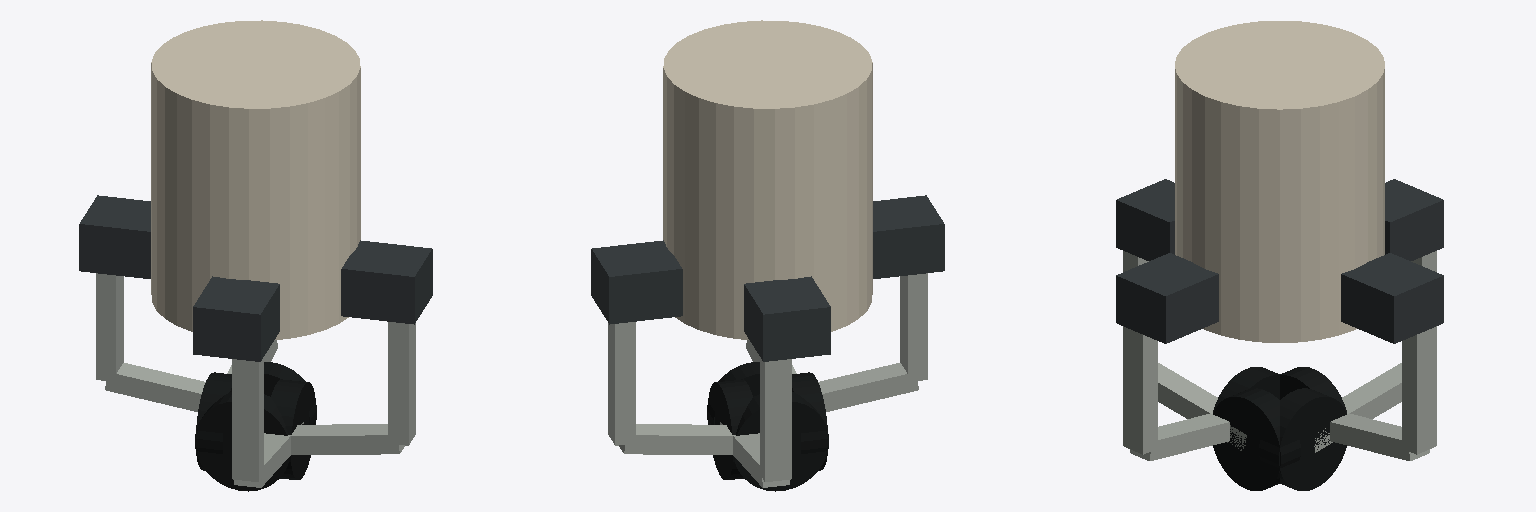
URDF robot description (mist_v2_engineering_candidate):
<?xml version='1.0' encoding='utf-8'?>
<robot name="mist_v2_engineering_candidate">
  <link name="base_link">
    <inertial>
      <origin xyz="0.003388389241 1.493361693e-06 0.03041384112" />
      <mass value="2.4492070836026665" />
      <inertia ixx="0.02125669905013628" iyy="0.019450610970687173" izz="0.017499715407569134" ixy="-3.087767463132525e-07" ixz="-0.0013028481915023627" iyz="2.742202012158825e-08" />
    </inertial>
    <visual>
      <origin xyz="0 0 0.075" rpy="0 0 0" />
      <geometry>
        <cylinder radius="0.09" length="0.22" />
      </geometry>
      <material name="base_link_material">
        <color rgba="0.83 0.8 0.73 1" />
      </material>
    </visual>
    <collision>
      <origin xyz="0 0 0.075" rpy="0 0 0" />
      <geometry>
        <cylinder radius="0.09" length="0.22" />
      </geometry>
    </collision>
  </link>
  <link name="FL_yaw">
    <inertial>
      <origin xyz="0.05037779371 -0.02909465782 0.003047798041" />
      <mass value="0.18856835128024615" />
      <inertia ixx="0.00017023544498280188" iyy="0.0002291867997440033" izz="0.00032701715050603735" ixy="0.00012541178122409732" ixz="2.3160330010817645e-05" iyz="-2.5777155508407435e-05" />
    </inertial>
    <visual>
      <origin xyz="0.0175 0.015 0" rpy="0 0 0" />
      <geometry>
        <box size="0.065 0.06 0.045" />
      </geometry>
      <material name="FL_yaw_material">
        <color rgba="0.25 0.27 0.28 1" />
      </material>
    </visual>
    <collision>
      <origin xyz="0.0175 0.015 0" rpy="0 0 0" />
      <geometry>
        <box size="0.065 0.06 0.045" />
      </geometry>
    </collision>
  </link>
  <joint name="FL_q1_yaw" type="revolute">
    <parent link="base_link" />
    <child link="FL_yaw" />
    <origin xyz="0.07283199846 0.07283199846 0" rpy="0 0 0.7853981634" />
    <axis xyz="0 0 1" />
    <limit lower="-1.7453292519943295" upper="1.7453292519943295" effort="20" velocity="20" />
    <dynamics damping="0" friction="0" />
  </joint>
  <link name="FL_femur">
    <inertial>
      <origin xyz="3.469446952e-17 0.02755742571 -0.04168769318" />
      <mass value="0.569793358910382" />
      <inertia ixx="0.0017104277044611873" iyy="0.001202420624449608" izz="0.0007070387454594916" ixy="1.3534319031886612e-20" ixz="2.309500200591432e-19" iyz="-1.3585098421913724e-05" />
    </inertial>
    <visual>
      <origin xyz="0 0 -0.06975" rpy="0 0 0" />
      <geometry>
        <box size="0.018 0.024 0.1395" />
      </geometry>
      <material name="FL_femur_material">
        <color rgba="0.68 0.7 0.67 1" />
      </material>
    </visual>
    <collision>
      <origin xyz="0 0 -0.06975" rpy="0 0 0" />
      <geometry>
        <box size="0.018 0.024 0.1395" />
      </geometry>
    </collision>
  </link>
  <joint name="FL_q2_hip" type="revolute">
    <parent link="FL_yaw" />
    <child link="FL_femur" />
    <origin xyz="0.035 0.03 0" rpy="0 0 0" />
    <axis xyz="0 -1 0" />
    <limit lower="-0.6981317007977318" upper="2.181661564992912" effort="20" velocity="20" />
    <dynamics damping="0" friction="0" />
  </joint>
  <link name="FL_tibia">
    <inertial>
      <origin xyz="5.11871788e-10 0.01826851161 -0.06290189864" />
      <mass value="0.4960406883090802" />
      <inertia ixx="0.0012527973451017522" iyy="0.001093121767756599" izz="0.0002716584378050016" ixy="-1.961471203965535e-12" ixz="-4.709087884667719e-12" iyz="-5.045115996889297e-06" />
    </inertial>
    <visual>
      <origin xyz="0 0 -0.07" rpy="0 0 0" />
      <geometry>
        <box size="0.018 0.024 0.14" />
      </geometry>
      <material name="FL_tibia_material">
        <color rgba="0.68 0.7 0.67 1" />
      </material>
    </visual>
    <collision>
      <origin xyz="0 0 -0.07" rpy="0 0 0" />
      <geometry>
        <box size="0.018 0.024 0.14" />
      </geometry>
    </collision>
  </link>
  <joint name="FL_q3_knee" type="revolute">
    <parent link="FL_femur" />
    <child link="FL_tibia" />
    <origin xyz="0 0 -0.1395" rpy="0 0 0" />
    <axis xyz="0 -1 0" />
    <limit lower="-2.6179938779914944" upper="-0.2617993877991494" effort="20" velocity="20" />
    <dynamics damping="0" friction="0" />
  </joint>
  <link name="FL_wheel">
    <inertial>
      <origin xyz="-3.752263715e-10 0.008234554553 2.471307574e-09" />
      <mass value="0.10731689053973788" />
      <inertia ixx="7.586045237460331e-05" iyy="9.10728819164123e-05" izz="7.586044613961116e-05" ixy="1.0194783467604003e-12" ixz="1.0128357823010377e-12" iyz="-6.710322416391488e-12" />
    </inertial>
    <visual>
      <origin xyz="0 0 0" rpy="1.570796327 0 0" />
      <geometry>
        <cylinder radius="0.0425" length="0.024" />
      </geometry>
      <material name="FL_wheel_material">
        <color rgba="0.12 0.13 0.13 1" />
      </material>
    </visual>
    <collision>
      <origin xyz="0 0 0" rpy="1.570796327 0 0" />
      <geometry>
        <cylinder radius="0.0425" length="0.024" />
      </geometry>
    </collision>
  </link>
  <joint name="FL_wheel_drive" type="continuous">
    <parent link="FL_tibia" />
    <child link="FL_wheel" />
    <origin xyz="0 0 -0.14" rpy="0 0 0" />
    <axis xyz="0 -1 0" />
    <dynamics damping="0" friction="0" />
  </joint>
  <link name="FR_yaw">
    <inertial>
      <origin xyz="0.05037779371 0.02909465782 0.003047798041" />
      <mass value="0.18856835128024615" />
      <inertia ixx="0.00017023544498280188" iyy="0.0002291867997440033" izz="0.00032701715050603735" ixy="-0.00012541178122409732" ixz="2.3160330010817645e-05" iyz="2.5777155508407435e-05" />
    </inertial>
    <visual>
      <origin xyz="0.0175 -0.015 0" rpy="0 0 0" />
      <geometry>
        <box size="0.065 0.06 0.045" />
      </geometry>
      <material name="FR_yaw_material">
        <color rgba="0.25 0.27 0.28 1" />
      </material>
    </visual>
    <collision>
      <origin xyz="0.0175 -0.015 0" rpy="0 0 0" />
      <geometry>
        <box size="0.065 0.06 0.045" />
      </geometry>
    </collision>
  </link>
  <joint name="FR_q1_yaw" type="revolute">
    <parent link="base_link" />
    <child link="FR_yaw" />
    <origin xyz="0.07283199846 -0.07283199846 0" rpy="0 0 -0.7853981634" />
    <axis xyz="0 0 1" />
    <limit lower="-1.7453292519943295" upper="1.7453292519943295" effort="20" velocity="20" />
    <dynamics damping="0" friction="0" />
  </joint>
  <link name="FR_femur">
    <inertial>
      <origin xyz="3.469446952e-17 -0.02755742571 -0.04168769318" />
      <mass value="0.569793358910382" />
      <inertia ixx="0.0017104277044611873" iyy="0.001202420624449608" izz="0.0007070387454594916" ixy="-1.3534319031886612e-20" ixz="2.309500200591432e-19" iyz="1.3585098421913724e-05" />
    </inertial>
    <visual>
      <origin xyz="0 0 -0.06975" rpy="0 0 0" />
      <geometry>
        <box size="0.018 0.024 0.1395" />
      </geometry>
      <material name="FR_femur_material">
        <color rgba="0.68 0.7 0.67 1" />
      </material>
    </visual>
    <collision>
      <origin xyz="0 0 -0.06975" rpy="0 0 0" />
      <geometry>
        <box size="0.018 0.024 0.1395" />
      </geometry>
    </collision>
  </link>
  <joint name="FR_q2_hip" type="revolute">
    <parent link="FR_yaw" />
    <child link="FR_femur" />
    <origin xyz="0.035 -0.03 0" rpy="0 0 0" />
    <axis xyz="0 -1 0" />
    <limit lower="-0.6981317007977318" upper="2.181661564992912" effort="20" velocity="20" />
    <dynamics damping="0" friction="0" />
  </joint>
  <link name="FR_tibia">
    <inertial>
      <origin xyz="5.11871788e-10 -0.01826851161 -0.06290189864" />
      <mass value="0.4960406883090802" />
      <inertia ixx="0.0012527973451017522" iyy="0.001093121767756599" izz="0.0002716584378050016" ixy="1.961471203965535e-12" ixz="-4.709087884667719e-12" iyz="5.045115996889297e-06" />
    </inertial>
    <visual>
      <origin xyz="0 0 -0.07" rpy="0 0 0" />
      <geometry>
        <box size="0.018 0.024 0.14" />
      </geometry>
      <material name="FR_tibia_material">
        <color rgba="0.68 0.7 0.67 1" />
      </material>
    </visual>
    <collision>
      <origin xyz="0 0 -0.07" rpy="0 0 0" />
      <geometry>
        <box size="0.018 0.024 0.14" />
      </geometry>
    </collision>
  </link>
  <joint name="FR_q3_knee" type="revolute">
    <parent link="FR_femur" />
    <child link="FR_tibia" />
    <origin xyz="0 0 -0.1395" rpy="0 0 0" />
    <axis xyz="0 -1 0" />
    <limit lower="-2.6179938779914944" upper="-0.2617993877991494" effort="20" velocity="20" />
    <dynamics damping="0" friction="0" />
  </joint>
  <link name="FR_wheel">
    <inertial>
      <origin xyz="-3.752263715e-10 -0.008234554553 2.471307574e-09" />
      <mass value="0.10731689053973788" />
      <inertia ixx="7.586045237460331e-05" iyy="9.10728819164123e-05" izz="7.586044613961116e-05" ixy="-1.0194783467604003e-12" ixz="1.0128357823010377e-12" iyz="6.710322416391488e-12" />
    </inertial>
    <visual>
      <origin xyz="0 0 0" rpy="1.570796327 0 0" />
      <geometry>
        <cylinder radius="0.0425" length="0.024" />
      </geometry>
      <material name="FR_wheel_material">
        <color rgba="0.12 0.13 0.13 1" />
      </material>
    </visual>
    <collision>
      <origin xyz="0 0 0" rpy="1.570796327 0 0" />
      <geometry>
        <cylinder radius="0.0425" length="0.024" />
      </geometry>
    </collision>
  </link>
  <joint name="FR_wheel_drive" type="continuous">
    <parent link="FR_tibia" />
    <child link="FR_wheel" />
    <origin xyz="0 0 -0.14" rpy="0 0 0" />
    <axis xyz="0 -1 0" />
    <dynamics damping="0" friction="0" />
  </joint>
  <link name="RL_yaw">
    <inertial>
      <origin xyz="0.05037779371 0.02909465782 0.003047798041" />
      <mass value="0.18856835128024615" />
      <inertia ixx="0.00017023544498280188" iyy="0.0002291867997440033" izz="0.00032701715050603735" ixy="-0.00012541178122409732" ixz="2.3160330010817645e-05" iyz="2.5777155508407435e-05" />
    </inertial>
    <visual>
      <origin xyz="0.0175 -0.015 0" rpy="0 0 0" />
      <geometry>
        <box size="0.065 0.06 0.045" />
      </geometry>
      <material name="RL_yaw_material">
        <color rgba="0.25 0.27 0.28 1" />
      </material>
    </visual>
    <collision>
      <origin xyz="0.0175 -0.015 0" rpy="0 0 0" />
      <geometry>
        <box size="0.065 0.06 0.045" />
      </geometry>
    </collision>
  </link>
  <joint name="RL_q1_yaw" type="revolute">
    <parent link="base_link" />
    <child link="RL_yaw" />
    <origin xyz="-0.07283199846 0.07283199846 0" rpy="0 0 2.35619449" />
    <axis xyz="0 0 1" />
    <limit lower="-1.7453292519943295" upper="1.7453292519943295" effort="20" velocity="20" />
    <dynamics damping="0" friction="0" />
  </joint>
  <link name="RL_femur">
    <inertial>
      <origin xyz="3.469446952e-17 -0.02755742571 -0.04168769318" />
      <mass value="0.569793358910382" />
      <inertia ixx="0.0017104277044611873" iyy="0.001202420624449608" izz="0.0007070387454594916" ixy="-1.3534319031886612e-20" ixz="2.309500200591432e-19" iyz="1.3585098421913724e-05" />
    </inertial>
    <visual>
      <origin xyz="0 0 -0.06975" rpy="0 0 0" />
      <geometry>
        <box size="0.018 0.024 0.1395" />
      </geometry>
      <material name="RL_femur_material">
        <color rgba="0.68 0.7 0.67 1" />
      </material>
    </visual>
    <collision>
      <origin xyz="0 0 -0.06975" rpy="0 0 0" />
      <geometry>
        <box size="0.018 0.024 0.1395" />
      </geometry>
    </collision>
  </link>
  <joint name="RL_q2_hip" type="revolute">
    <parent link="RL_yaw" />
    <child link="RL_femur" />
    <origin xyz="0.035 -0.03 0" rpy="0 0 0" />
    <axis xyz="0 -1 0" />
    <limit lower="-0.6981317007977318" upper="2.181661564992912" effort="20" velocity="20" />
    <dynamics damping="0" friction="0" />
  </joint>
  <link name="RL_tibia">
    <inertial>
      <origin xyz="5.11871788e-10 -0.01826851161 -0.06290189864" />
      <mass value="0.4960406883090802" />
      <inertia ixx="0.0012527973451017522" iyy="0.001093121767756599" izz="0.0002716584378050016" ixy="1.961471203965535e-12" ixz="-4.709087884667719e-12" iyz="5.045115996889297e-06" />
    </inertial>
    <visual>
      <origin xyz="0 0 -0.07" rpy="0 0 0" />
      <geometry>
        <box size="0.018 0.024 0.14" />
      </geometry>
      <material name="RL_tibia_material">
        <color rgba="0.68 0.7 0.67 1" />
      </material>
    </visual>
    <collision>
      <origin xyz="0 0 -0.07" rpy="0 0 0" />
      <geometry>
        <box size="0.018 0.024 0.14" />
      </geometry>
    </collision>
  </link>
  <joint name="RL_q3_knee" type="revolute">
    <parent link="RL_femur" />
    <child link="RL_tibia" />
    <origin xyz="0 0 -0.1395" rpy="0 0 0" />
    <axis xyz="0 -1 0" />
    <limit lower="-2.6179938779914944" upper="-0.2617993877991494" effort="20" velocity="20" />
    <dynamics damping="0" friction="0" />
  </joint>
  <link name="RL_wheel">
    <inertial>
      <origin xyz="-3.752263715e-10 -0.008234554553 2.471307574e-09" />
      <mass value="0.10731689053973788" />
      <inertia ixx="7.586045237460331e-05" iyy="9.10728819164123e-05" izz="7.586044613961116e-05" ixy="-1.0194783467604003e-12" ixz="1.0128357823010377e-12" iyz="6.710322416391488e-12" />
    </inertial>
    <visual>
      <origin xyz="0 0 0" rpy="1.570796327 0 0" />
      <geometry>
        <cylinder radius="0.0425" length="0.024" />
      </geometry>
      <material name="RL_wheel_material">
        <color rgba="0.12 0.13 0.13 1" />
      </material>
    </visual>
    <collision>
      <origin xyz="0 0 0" rpy="1.570796327 0 0" />
      <geometry>
        <cylinder radius="0.0425" length="0.024" />
      </geometry>
    </collision>
  </link>
  <joint name="RL_wheel_drive" type="continuous">
    <parent link="RL_tibia" />
    <child link="RL_wheel" />
    <origin xyz="0 0 -0.14" rpy="0 0 0" />
    <axis xyz="0 -1 0" />
    <dynamics damping="0" friction="0" />
  </joint>
  <link name="RR_yaw">
    <inertial>
      <origin xyz="0.05037779371 -0.02909465782 0.003047798041" />
      <mass value="0.18856835128024615" />
      <inertia ixx="0.00017023544498280188" iyy="0.0002291867997440033" izz="0.00032701715050603735" ixy="0.00012541178122409732" ixz="2.3160330010817645e-05" iyz="-2.5777155508407435e-05" />
    </inertial>
    <visual>
      <origin xyz="0.0175 0.015 0" rpy="0 0 0" />
      <geometry>
        <box size="0.065 0.06 0.045" />
      </geometry>
      <material name="RR_yaw_material">
        <color rgba="0.25 0.27 0.28 1" />
      </material>
    </visual>
    <collision>
      <origin xyz="0.0175 0.015 0" rpy="0 0 0" />
      <geometry>
        <box size="0.065 0.06 0.045" />
      </geometry>
    </collision>
  </link>
  <joint name="RR_q1_yaw" type="revolute">
    <parent link="base_link" />
    <child link="RR_yaw" />
    <origin xyz="-0.07283199846 -0.07283199846 0" rpy="0 0 -2.35619449" />
    <axis xyz="0 0 1" />
    <limit lower="-1.7453292519943295" upper="1.7453292519943295" effort="20" velocity="20" />
    <dynamics damping="0" friction="0" />
  </joint>
  <link name="RR_femur">
    <inertial>
      <origin xyz="3.469446952e-17 0.02755742571 -0.04168769318" />
      <mass value="0.569793358910382" />
      <inertia ixx="0.0017104277044611873" iyy="0.001202420624449608" izz="0.0007070387454594916" ixy="1.3534319031886612e-20" ixz="2.309500200591432e-19" iyz="-1.3585098421913724e-05" />
    </inertial>
    <visual>
      <origin xyz="0 0 -0.06975" rpy="0 0 0" />
      <geometry>
        <box size="0.018 0.024 0.1395" />
      </geometry>
      <material name="RR_femur_material">
        <color rgba="0.68 0.7 0.67 1" />
      </material>
    </visual>
    <collision>
      <origin xyz="0 0 -0.06975" rpy="0 0 0" />
      <geometry>
        <box size="0.018 0.024 0.1395" />
      </geometry>
    </collision>
  </link>
  <joint name="RR_q2_hip" type="revolute">
    <parent link="RR_yaw" />
    <child link="RR_femur" />
    <origin xyz="0.035 0.03 0" rpy="0 0 0" />
    <axis xyz="0 -1 0" />
    <limit lower="-0.6981317007977318" upper="2.181661564992912" effort="20" velocity="20" />
    <dynamics damping="0" friction="0" />
  </joint>
  <link name="RR_tibia">
    <inertial>
      <origin xyz="5.11871788e-10 0.01826851161 -0.06290189864" />
      <mass value="0.4960406883090802" />
      <inertia ixx="0.0012527973451017522" iyy="0.001093121767756599" izz="0.0002716584378050016" ixy="-1.961471203965535e-12" ixz="-4.709087884667719e-12" iyz="-5.045115996889297e-06" />
    </inertial>
    <visual>
      <origin xyz="0 0 -0.07" rpy="0 0 0" />
      <geometry>
        <box size="0.018 0.024 0.14" />
      </geometry>
      <material name="RR_tibia_material">
        <color rgba="0.68 0.7 0.67 1" />
      </material>
    </visual>
    <collision>
      <origin xyz="0 0 -0.07" rpy="0 0 0" />
      <geometry>
        <box size="0.018 0.024 0.14" />
      </geometry>
    </collision>
  </link>
  <joint name="RR_q3_knee" type="revolute">
    <parent link="RR_femur" />
    <child link="RR_tibia" />
    <origin xyz="0 0 -0.1395" rpy="0 0 0" />
    <axis xyz="0 -1 0" />
    <limit lower="-2.6179938779914944" upper="-0.2617993877991494" effort="20" velocity="20" />
    <dynamics damping="0" friction="0" />
  </joint>
  <link name="RR_wheel">
    <inertial>
      <origin xyz="-3.752263715e-10 0.008234554553 2.471307574e-09" />
      <mass value="0.10731689053973788" />
      <inertia ixx="7.586045237460331e-05" iyy="9.10728819164123e-05" izz="7.586044613961116e-05" ixy="1.0194783467604003e-12" ixz="1.0128357823010377e-12" iyz="-6.710322416391488e-12" />
    </inertial>
    <visual>
      <origin xyz="0 0 0" rpy="1.570796327 0 0" />
      <geometry>
        <cylinder radius="0.0425" length="0.024" />
      </geometry>
      <material name="RR_wheel_material">
        <color rgba="0.12 0.13 0.13 1" />
      </material>
    </visual>
    <collision>
      <origin xyz="0 0 0" rpy="1.570796327 0 0" />
      <geometry>
        <cylinder radius="0.0425" length="0.024" />
      </geometry>
    </collision>
  </link>
  <joint name="RR_wheel_drive" type="continuous">
    <parent link="RR_tibia" />
    <child link="RR_wheel" />
    <origin xyz="0 0 -0.14" rpy="0 0 0" />
    <axis xyz="0 -1 0" />
    <dynamics damping="0" friction="0" />
  </joint>
</robot>

--- What the picture shows (computed from the rendered views, not written in the file) ---
Views: 3 orthographic renders of the robot side by side, from view 1: azimuth 30°, elevation 25°; view 2: azimuth 150°, elevation 25°; view 3: azimuth 270°, elevation 25°.
Robot: mist_v2_engineering_candidate — 17 links, 16 joints (12 revolute, 4 continuous); root link base_link; default pose: all joints at 0 but 4 set to mid-range because 0 is outside their limits (FL_q3_knee = -1.44, FR_q3_knee = -1.44, RL_q3_knee = -1.44, RR_q3_knee = -1.44).
Links seen in each view (by area): view 1: base_link, FR_yaw, RR_yaw, RL_yaw, RR_femur, FR_femur, FR_tibia, FR_wheel, RL_tibia, RL_femur, RR_wheel, FL_wheel (+2 smaller); view 2: base_link, FL_yaw, RL_yaw, RR_yaw, RL_femur, FL_femur, FL_tibia, FL_wheel, RR_tibia, RR_femur, RL_wheel, FR_wheel (+2 smaller); view 3: base_link, FL_yaw, FR_yaw, RL_wheel, RR_wheel, FR_femur, FL_femur, RL_yaw, RR_yaw, FL_tibia, FR_tibia, RR_tibia (+3 smaller).
Link boxes in pixels (<box>): base_link: <box>151,20,360,339</box>; FR_yaw: <box>341,240,432,324</box>; RR_yaw: <box>193,276,279,361</box>; RL_yaw: <box>79,195,150,278</box>; RR_femur: <box>232,357,263,481</box>; FR_femur: <box>388,322,415,445</box>; FR_tibia: <box>289,424,404,454</box>; FR_wheel: <box>195,392,289,491</box>; RL_tibia: <box>105,363,205,411</box>; RL_femur: <box>96,273,123,381</box>; RR_wheel: <box>271,379,315,479</box>; FL_wheel: <box>196,372,231,470</box>; base_link: <box>663,20,872,339</box>; FL_yaw: <box>591,240,682,324</box>; RL_yaw: <box>744,276,830,361</box>; RR_yaw: <box>873,195,944,278</box>; RL_femur: <box>760,357,791,481</box>; FL_femur: <box>608,322,635,445</box>; FL_tibia: <box>619,424,734,454</box>; FL_wheel: <box>734,392,828,491</box>; RR_tibia: <box>818,363,918,411</box>; RR_femur: <box>900,273,927,381</box>; RL_wheel: <box>708,379,752,479</box>; FR_wheel: <box>792,372,827,470</box>; base_link: <box>1175,21,1384,342</box>; FL_yaw: <box>1341,253,1443,343</box>; FR_yaw: <box>1116,253,1218,343</box>; RL_wheel: <box>1259,388,1346,490</box>; RR_wheel: <box>1213,388,1300,490</box>; FR_femur: <box>1123,326,1157,454</box>; FL_femur: <box>1402,326,1436,454</box>; RL_yaw: <box>1385,179,1443,260</box>; RR_yaw: <box>1116,179,1174,260</box>; FL_tibia: <box>1330,413,1429,460</box>; FR_tibia: <box>1130,413,1229,460</box>; RR_tibia: <box>1158,363,1246,450</box>.
Bounding box of the posed robot: 0.2376 × 0.28 × 0.3852 m (x, y, z).
Geometry: primitives only (box / cylinder / sphere), no mesh files.
